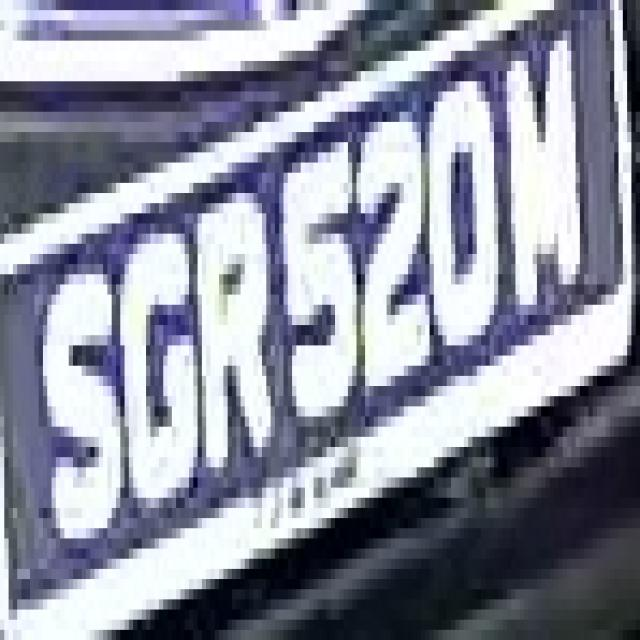0: (412, 91, 490, 386)
2: (344, 142, 429, 406)
5: (266, 152, 352, 458)
G: (108, 234, 198, 558)
M: (494, 30, 593, 315)
R: (184, 152, 284, 508)
S: (34, 254, 116, 559)
